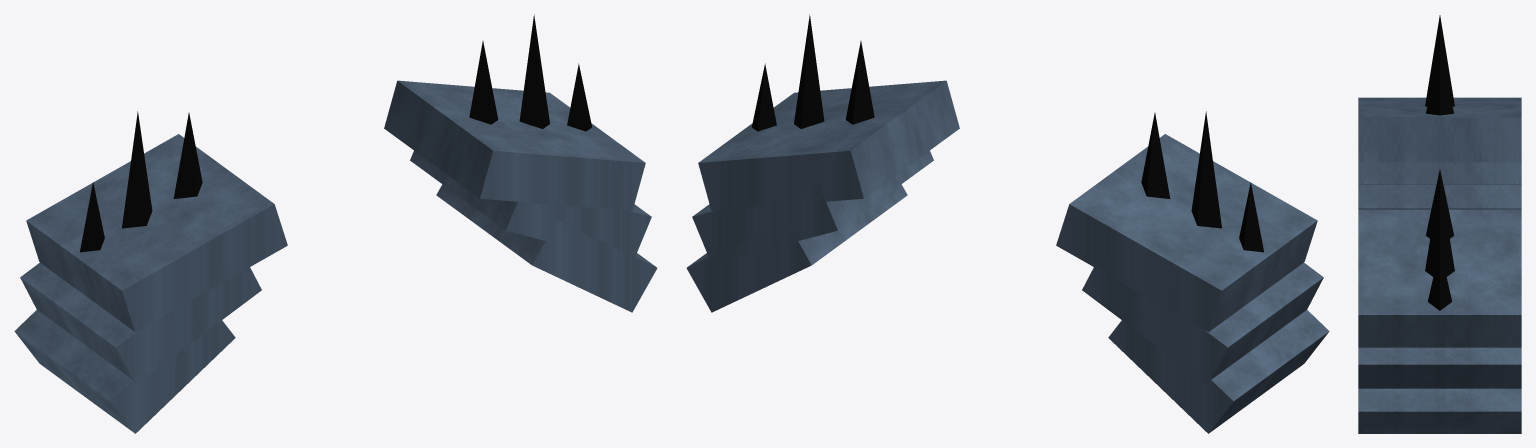
The model's file is rival_mother_pauldrons.obj.
3 renders of one model, left to right at view 1: azimuth 30°, elevation 25°; view 2: azimuth 150°, elevation 25°; view 3: azimuth 270°, elevation 25°, orthographic. The views are drawn at different scales.
Visible parts, largest first — view 1: rival_mother_pauldrons; view 2: rival_mother_pauldrons; view 3: rival_mother_pauldrons.
Boxes of the visible parts, x1,y1,x2,y2 form: rival_mother_pauldrons: (14,14,657,433); rival_mother_pauldrons: (686,14,1329,433); rival_mother_pauldrons: (1358,15,1521,433).
Size of the model in its own units: 1.07 by 0.5157 by 0.325.
